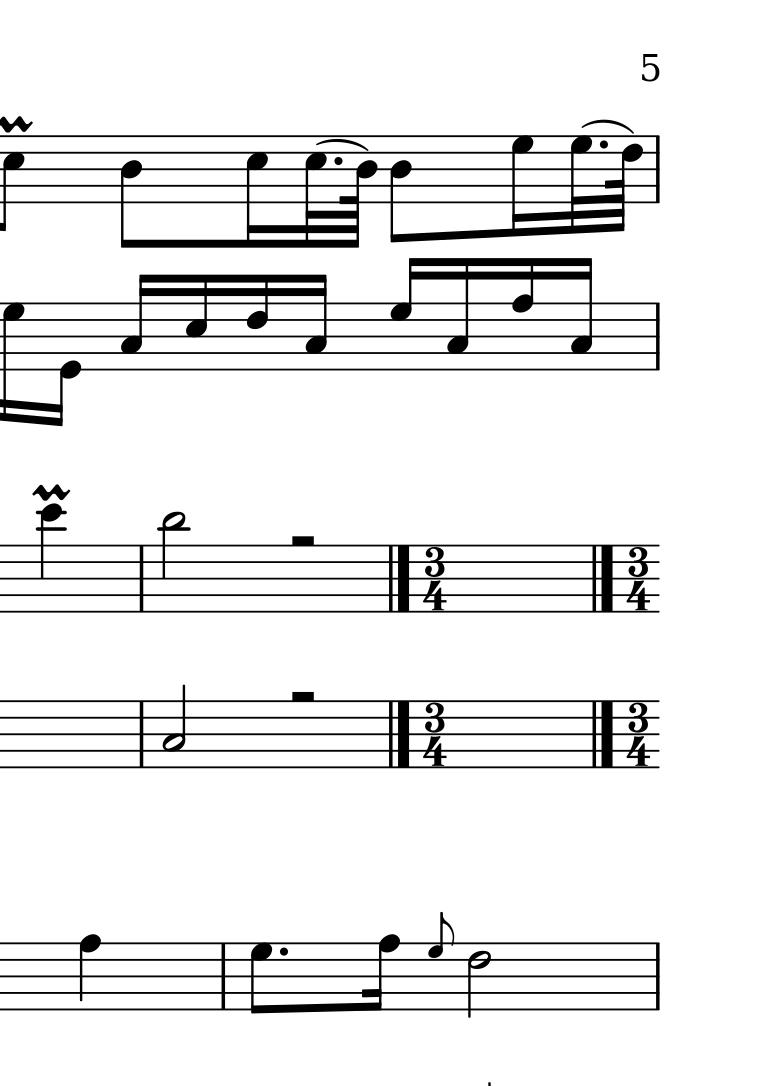16_0: (48, 299, 80, 427)
16_3: (445, 256, 472, 373), (569, 256, 595, 373), (120, 274, 147, 371), (305, 273, 328, 372)
16_5: (245, 132, 270, 249), (185, 273, 211, 373)
16_6: (246, 272, 270, 373)
16_7: (388, 257, 421, 370), (1, 300, 25, 425), (510, 132, 535, 239)
16_8: (510, 257, 535, 372), (364, 934, 399, 1012)
2_11: (160, 510, 187, 614)
2_3: (163, 683, 186, 770)
2_6: (467, 941, 493, 1018)
3: (628, 700, 656, 733), (421, 700, 449, 733), (626, 544, 651, 578), (423, 546, 447, 578)
32_5: (305, 132, 328, 250)
32_7: (568, 135, 593, 234)
4: (626, 578, 656, 610), (421, 733, 449, 767), (422, 578, 449, 612), (627, 733, 654, 767)
4_12: (38, 503, 62, 614)
4_8: (79, 933, 103, 1011)
5: (640, 50, 662, 80)
64_4: (342, 131, 381, 249)
64_6: (615, 133, 642, 232)
8_4: (119, 131, 145, 253), (389, 131, 415, 244)
8_7: (250, 941, 274, 1016)
Appoggiature: (428, 909, 457, 1012)
Final_barline: (381, 544, 415, 612), (386, 698, 414, 767), (590, 700, 618, 768), (590, 544, 616, 615)
Rests2: (288, 685, 320, 706), (286, 531, 318, 552)
ShortTrill: (31, 479, 71, 500), (1, 112, 33, 136)
Single_barline: (130, 697, 152, 768), (213, 944, 232, 1009), (132, 548, 152, 608), (647, 943, 665, 1008), (648, 137, 666, 201), (646, 305, 665, 364)
Slur: (580, 117, 636, 135), (317, 138, 373, 151)
TimeSig: (623, 544, 655, 613), (421, 699, 450, 768), (625, 699, 652, 768), (422, 545, 448, 614)
dot: (327, 149, 350, 171), (274, 940, 293, 963), (276, 943, 290, 960), (597, 137, 611, 152), (335, 154, 344, 168)
